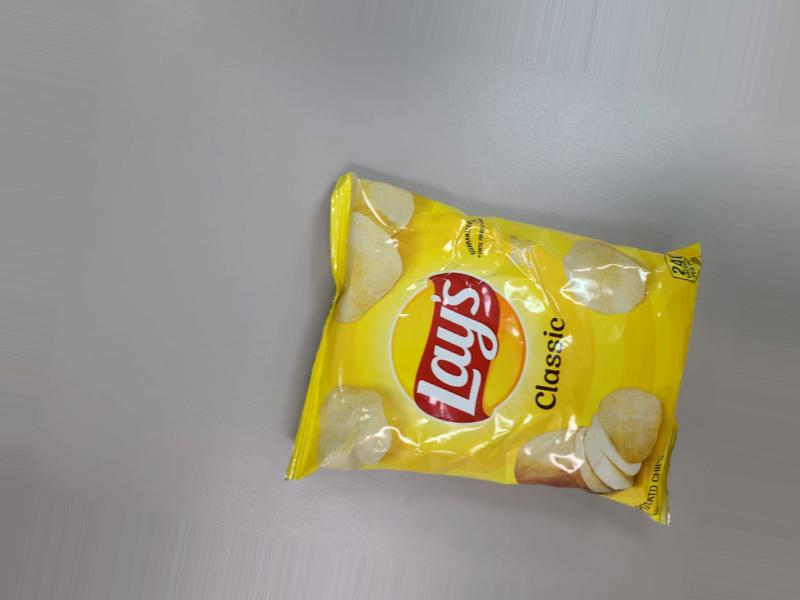lays: (258, 186, 701, 530)
